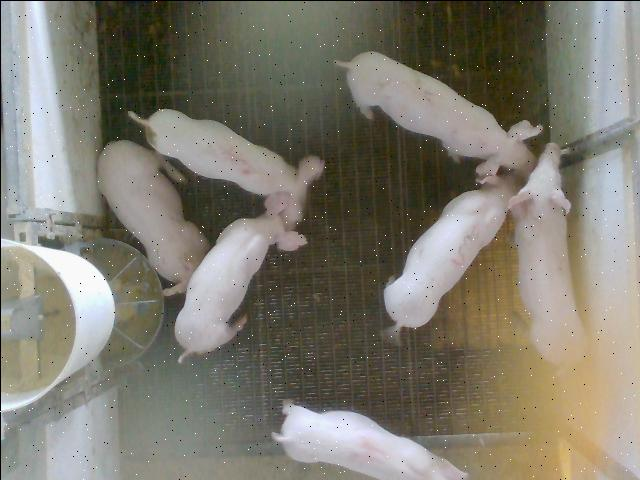pig-3: (382, 175, 518, 340)
pig-4: (271, 401, 466, 479)
pig-5: (128, 109, 324, 229)
